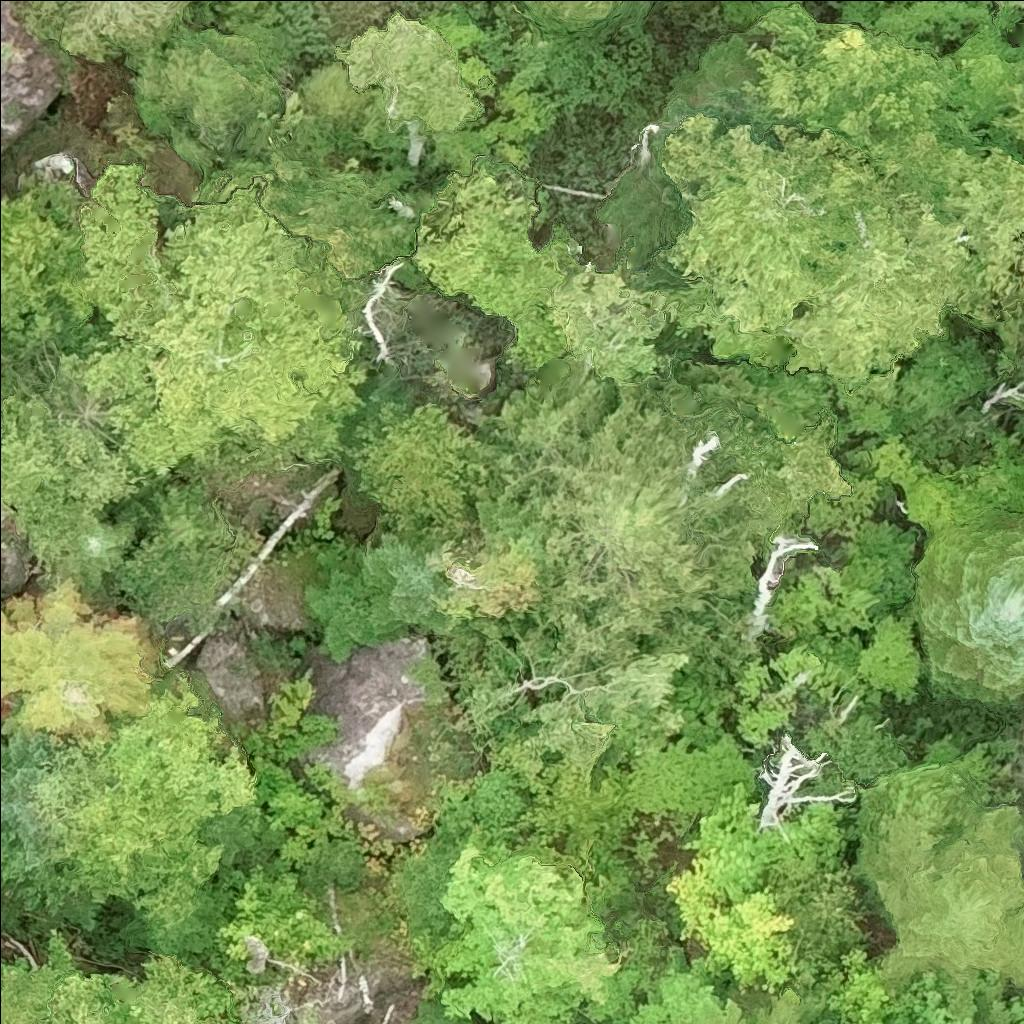crown: (60, 166, 377, 479), (653, 112, 878, 364), (511, 369, 710, 637), (57, 671, 256, 904), (849, 758, 1023, 1016), (785, 154, 970, 394), (428, 843, 630, 1023), (751, 0, 961, 169), (412, 164, 580, 371), (0, 576, 164, 748), (896, 125, 1023, 328), (0, 371, 148, 541), (913, 509, 1023, 708), (343, 384, 489, 530), (117, 23, 282, 148), (664, 782, 780, 944), (339, 10, 476, 132), (543, 264, 666, 383), (33, 952, 236, 1023), (686, 882, 801, 997), (20, 0, 198, 60), (360, 525, 451, 637), (0, 703, 57, 866), (302, 566, 386, 668), (627, 943, 724, 1023), (0, 927, 79, 1023), (63, 505, 141, 588), (818, 944, 896, 1023), (514, 0, 655, 41), (889, 967, 976, 1023), (694, 990, 822, 1023), (990, 80, 1023, 152), (1011, 247, 1023, 324), (1012, 722, 1023, 798), (979, 997, 1011, 1023), (1005, 991, 1023, 1023), (990, 0, 1023, 9)
